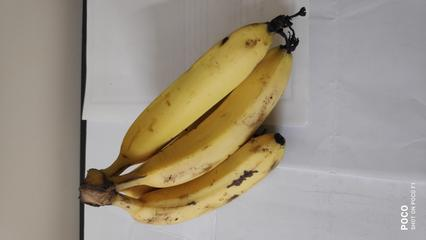banana: (121, 31, 303, 229)
